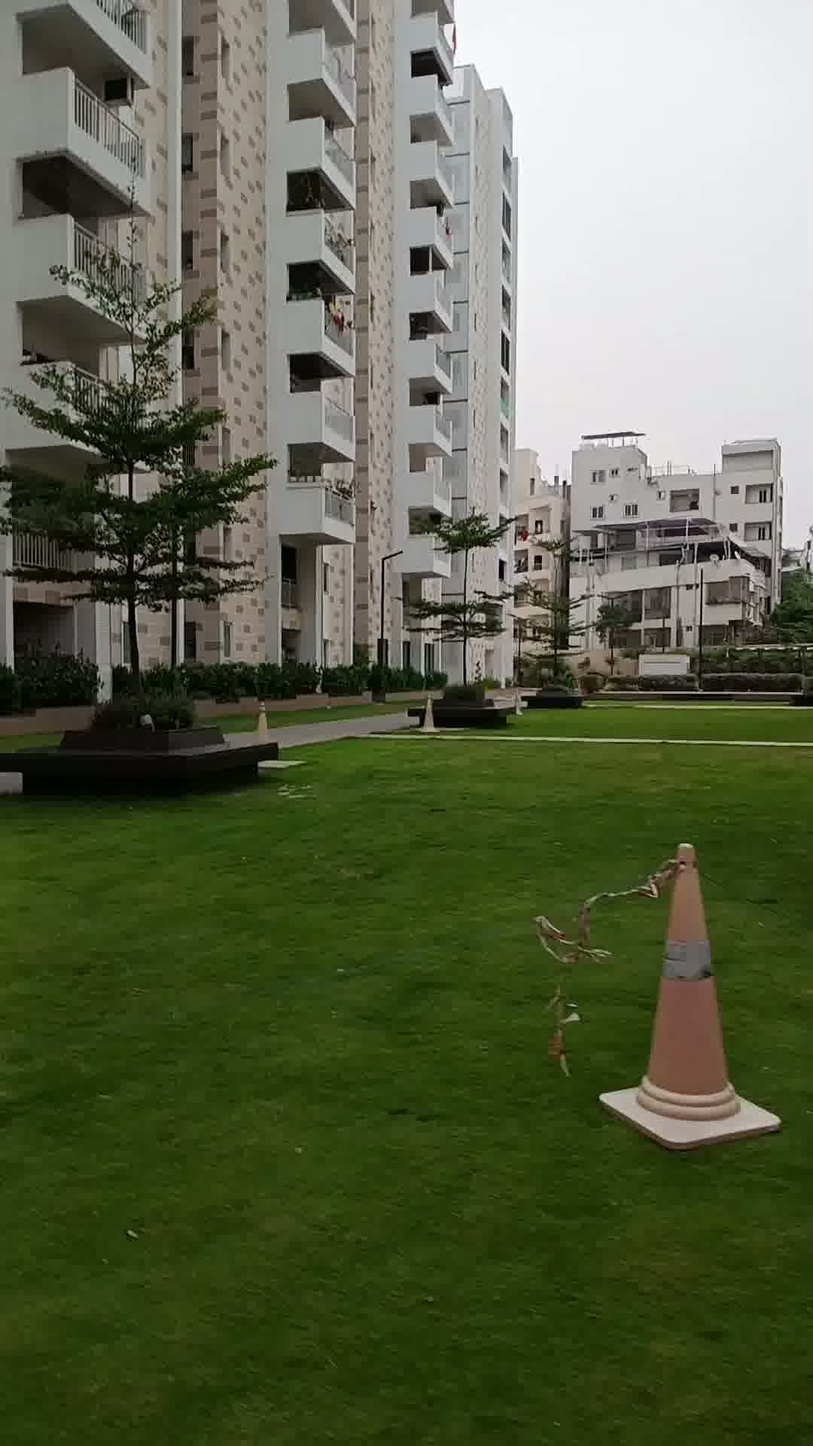tree: (3, 213, 276, 749), (418, 487, 526, 717), (538, 541, 597, 689)
